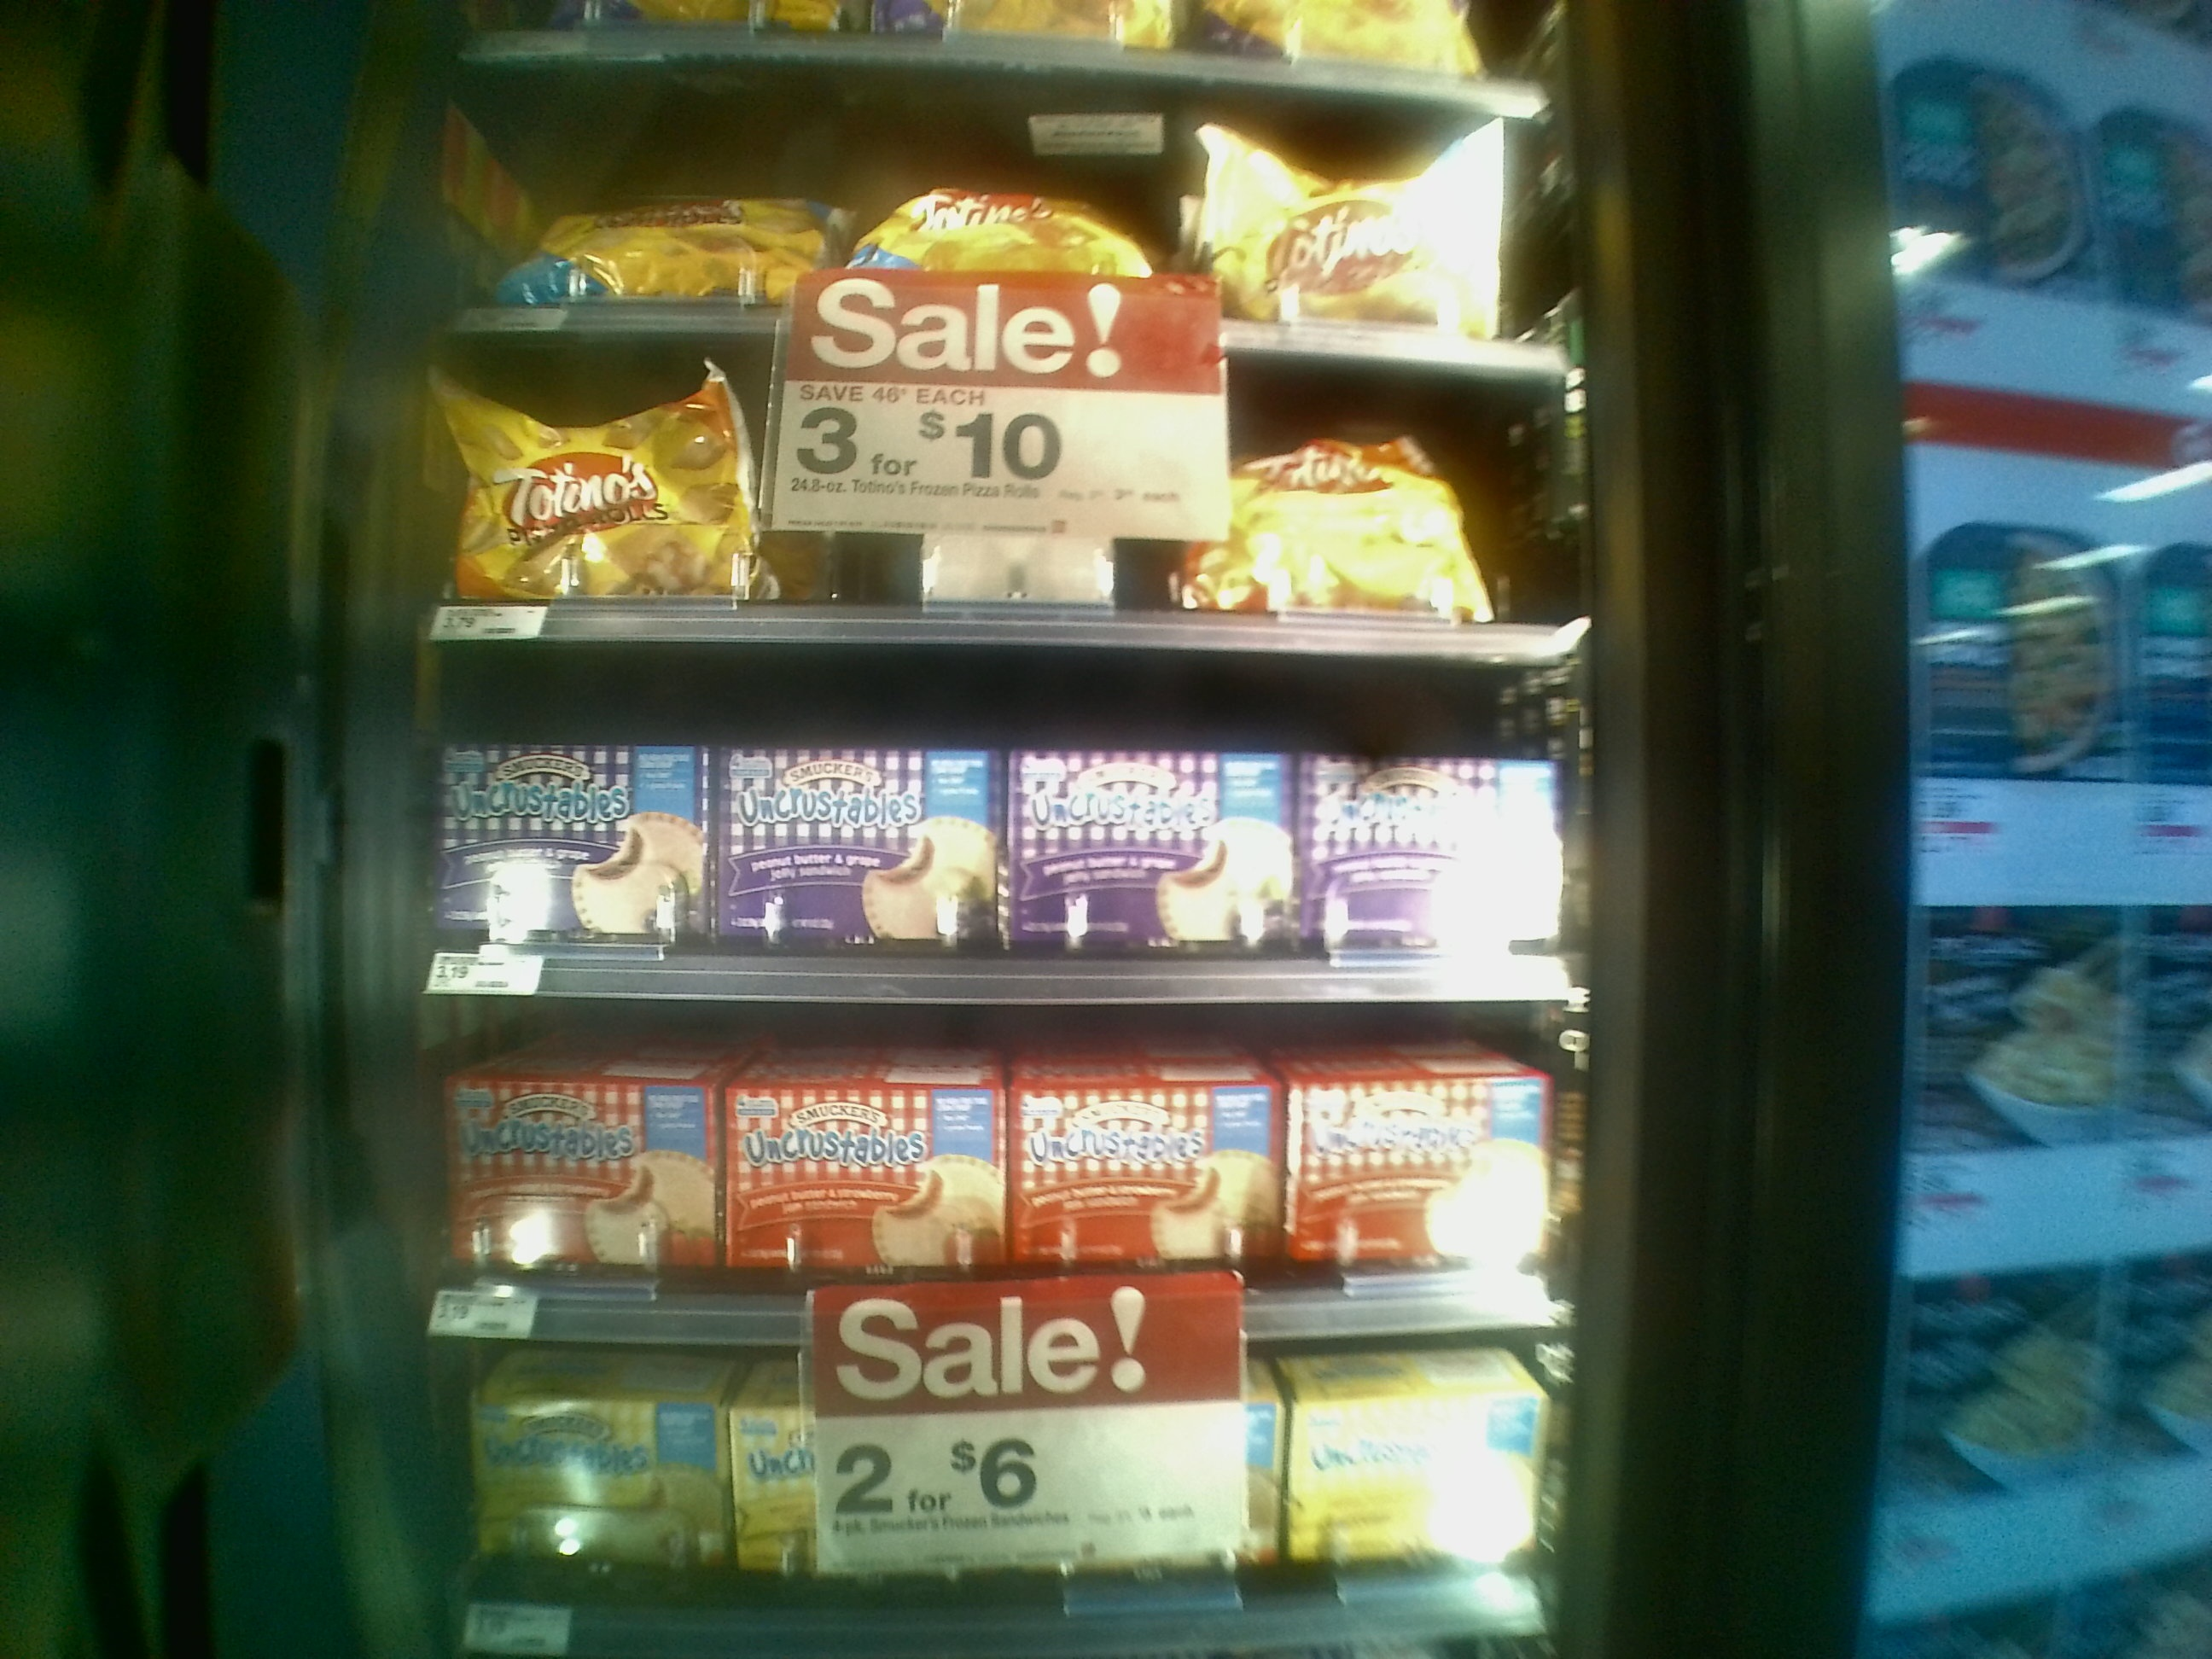shelf: (404, 610, 1576, 992), (409, 972, 1531, 1335), (415, 321, 1571, 655), (399, 1314, 1534, 1647)
